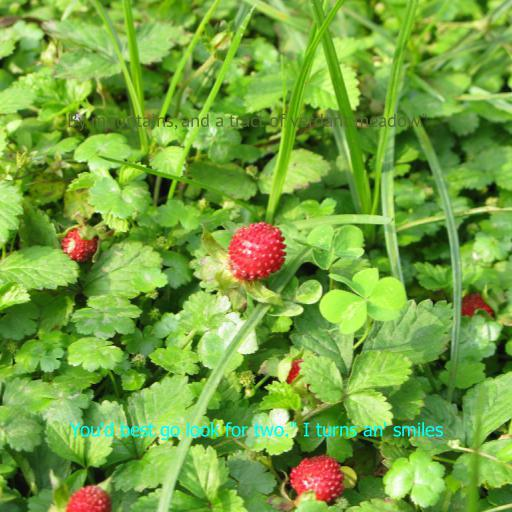PT Sans: (67, 113, 427, 131)
Tahoma: (69, 422, 443, 441)
